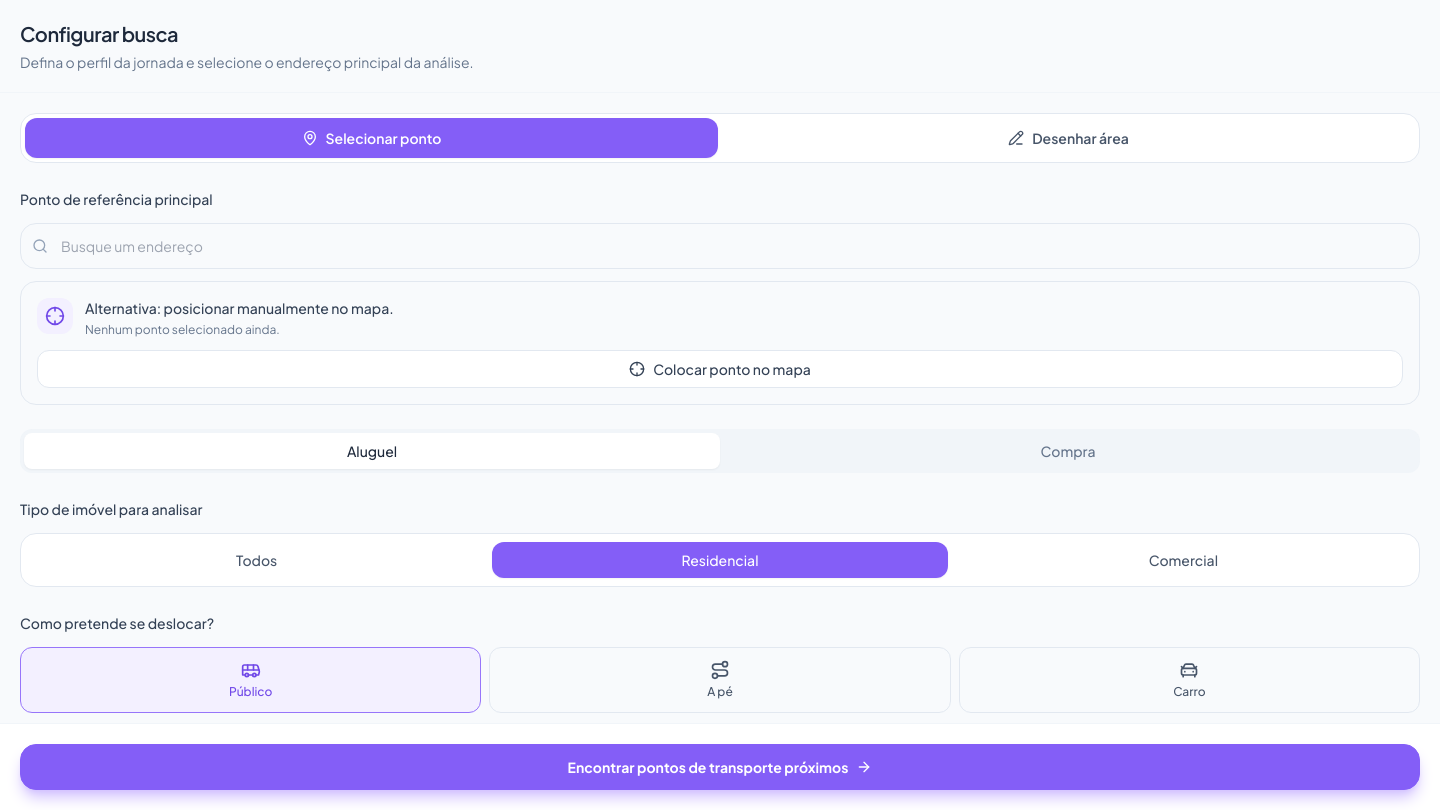
Test: Step1Config › shows the reference point placement button and toggles picking mode
Click the button "Colocar ponto no mapa" at x=720, y=369, box [37,350,1403,388]
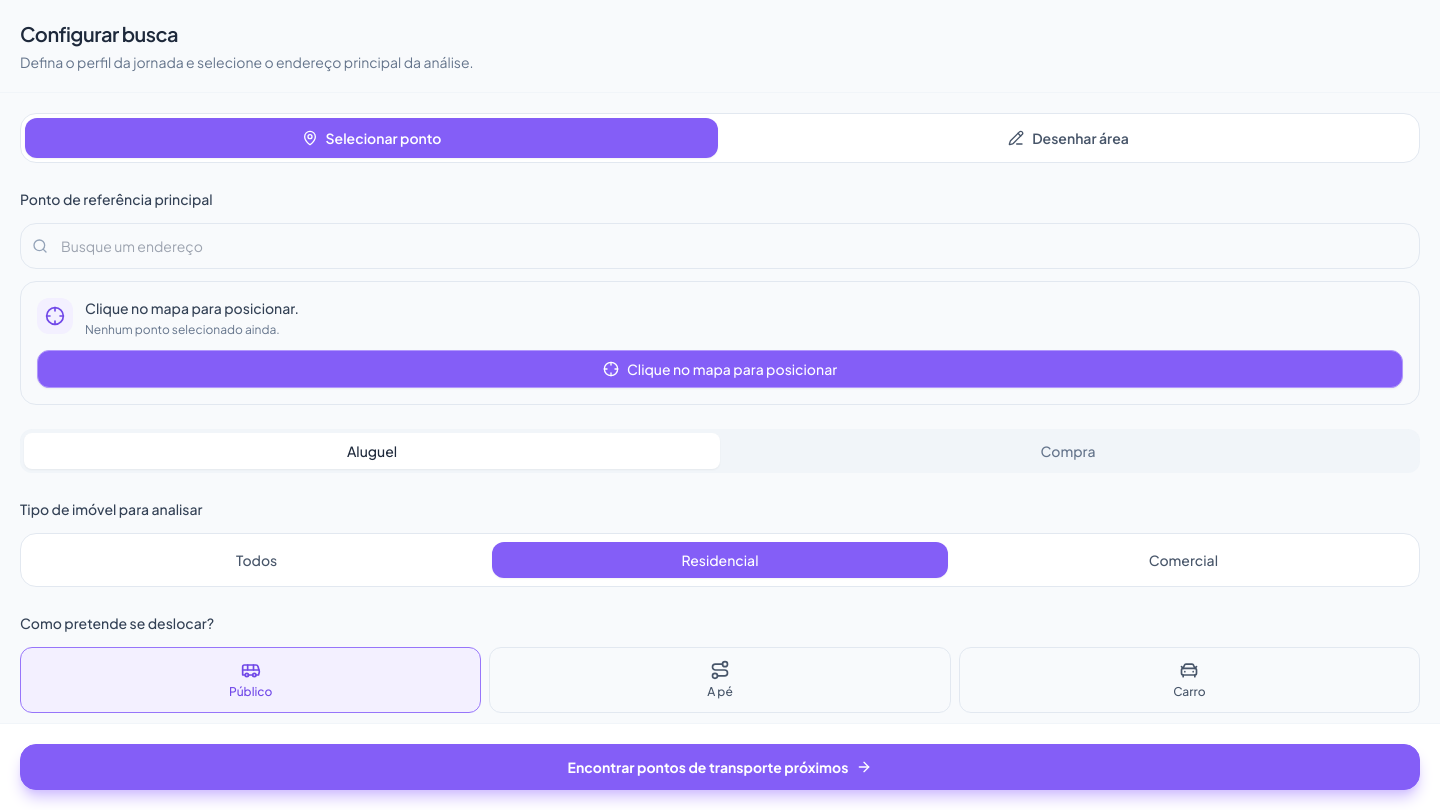
Result: the text "Clique no mapa para posicionar." is shown at [85,299,299,317]
